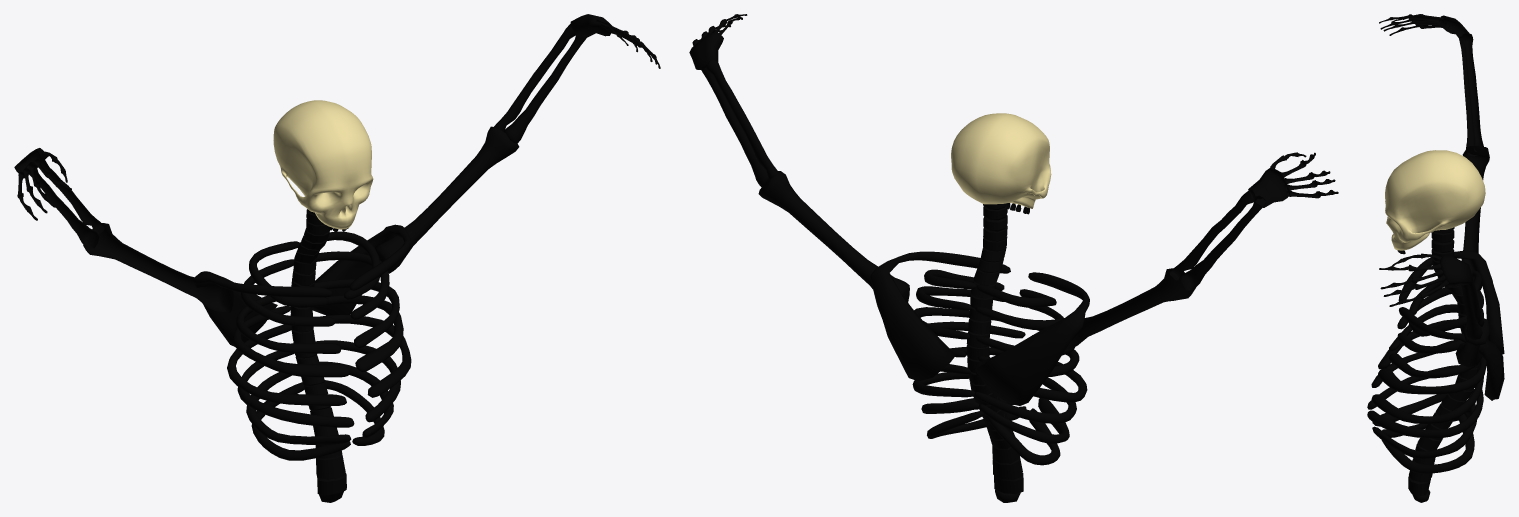
Rendered from Skeleton.fbx.
3 views of the same model, side by side, from view 1: azimuth 30°, elevation 25°; view 2: azimuth 150°, elevation 25°; view 3: azimuth 270°, elevation 25° (orthographic). The views are drawn at different scales.
Parts seen in each view (by area): view 1: Skelet; view 2: Skelet; view 3: Skelet.
Boxes of the visible parts, x1,y1,x2,y2 form: Skelet: [14, 14, 660, 502]; Skelet: [689, 14, 1338, 502]; Skelet: [1367, 14, 1504, 502].
Size of the model in its own units: 52.99 by 157 by 251.
